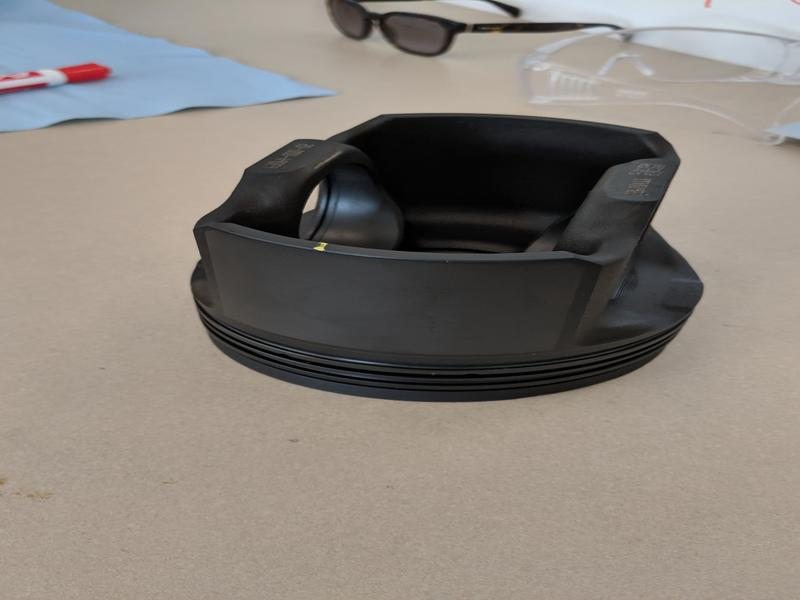piston: (184, 108, 714, 408)
